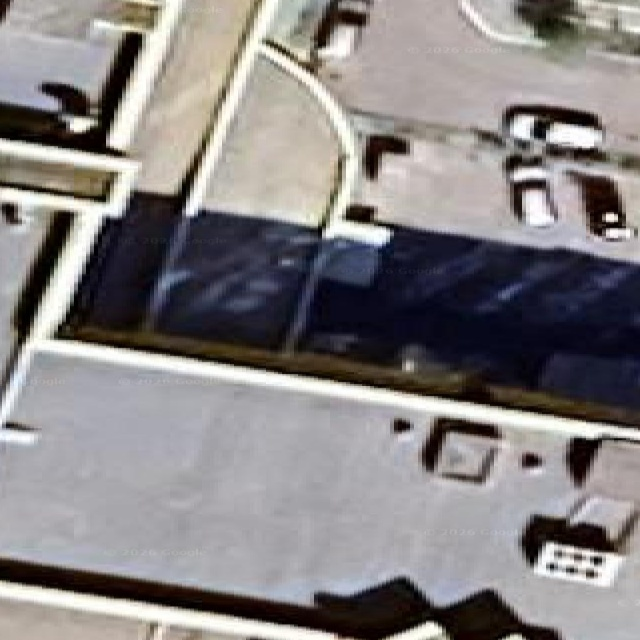car: (503, 104, 604, 152), (569, 171, 635, 240), (504, 158, 556, 227), (313, 0, 371, 59), (40, 81, 96, 132), (363, 134, 409, 179), (316, 24, 360, 60), (504, 107, 539, 147), (588, 212, 635, 240), (0, 203, 30, 227), (336, 0, 372, 12)
